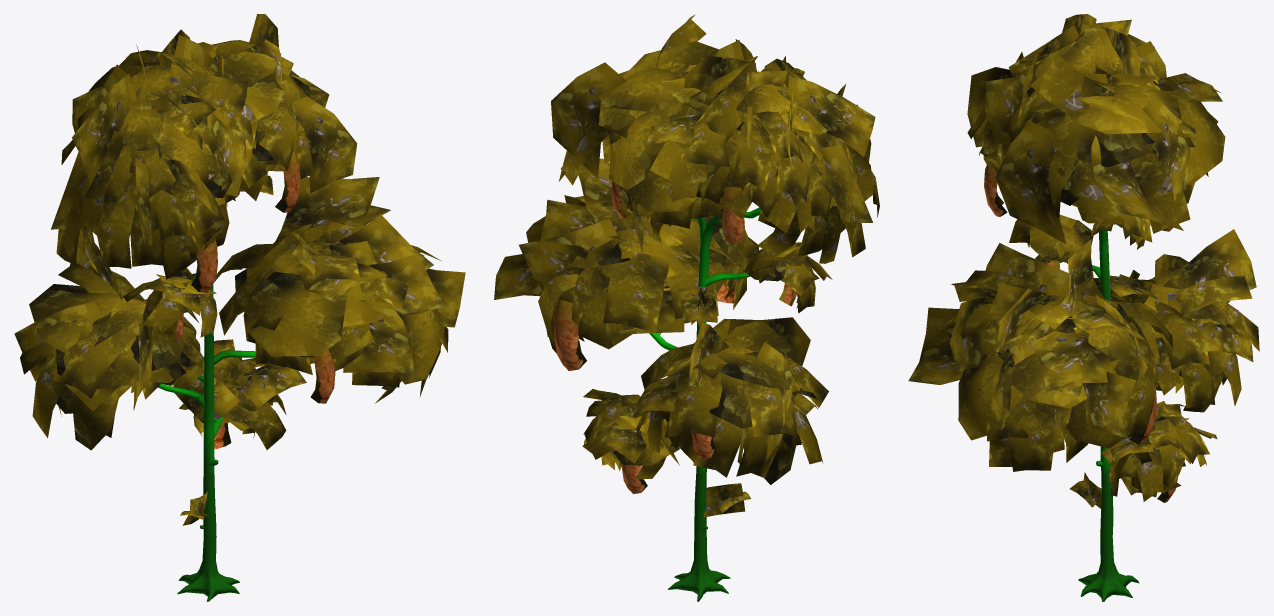
File: hvs_trees_birch03_lod0.fbx
3 renders of one model, left to right at view 1: azimuth 30°, elevation 25°; view 2: azimuth 150°, elevation 25°; view 3: azimuth 270°, elevation 25°, orthographic. The views are drawn at different scales.
Parts seen in each view (by area): view 1: hvs_trees_birch03_lod0; view 2: hvs_trees_birch03_lod0; view 3: hvs_trees_birch03_lod0.
Part boxes in pixels (x1,y1,x2,y2): hvs_trees_birch03_lod0: (14, 14, 465, 601); hvs_trees_birch03_lod0: (494, 14, 879, 601); hvs_trees_birch03_lod0: (908, 14, 1259, 601).
Size of the model in its own units: 48.19 by 70.91 by 40.4.
